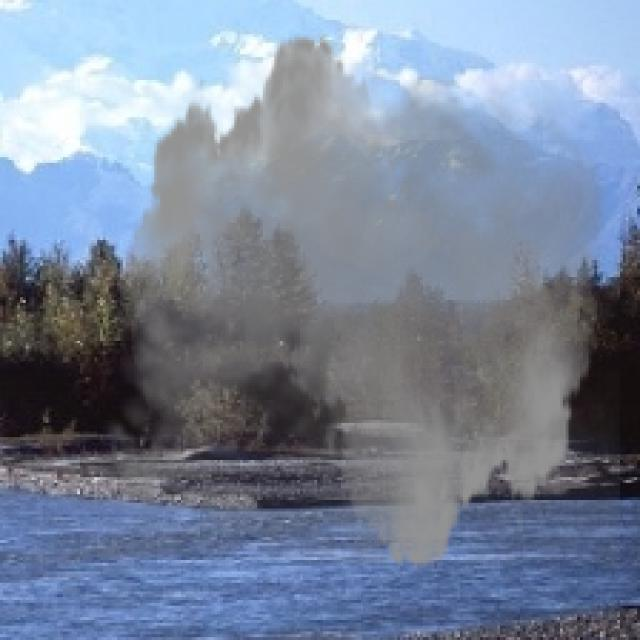smoke: (89, 17, 620, 586)
